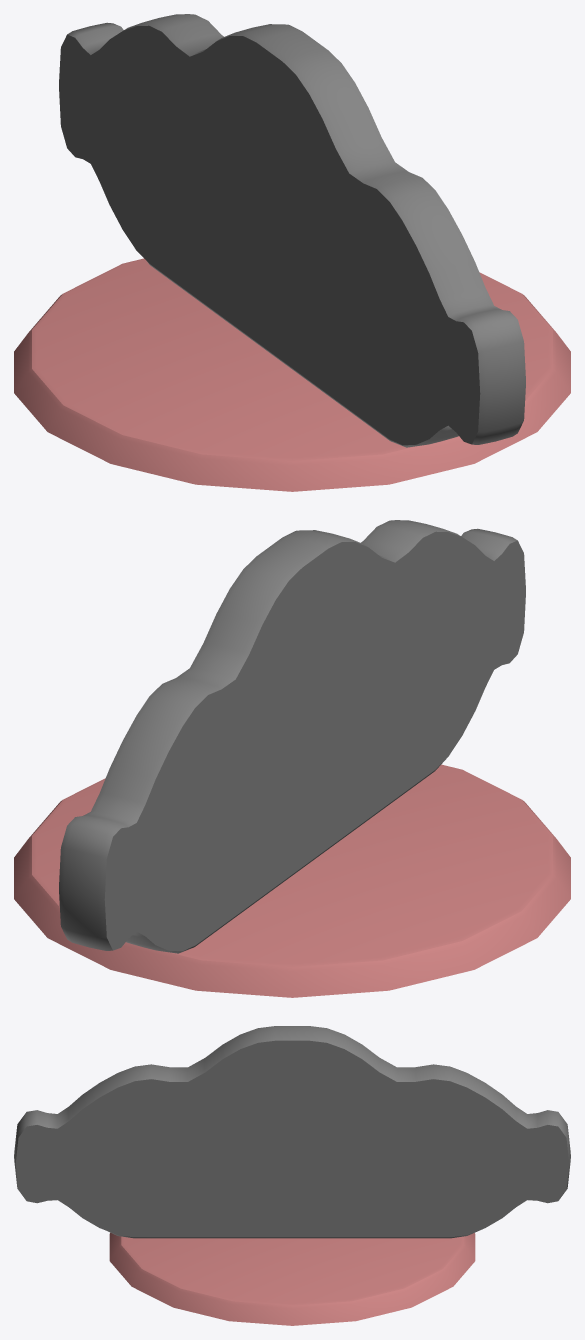
The model's file is bush.fbx.
The picture shows the model from 3 angles, top to bottom: view 1: azimuth 30°, elevation 25°; view 2: azimuth 150°, elevation 25°; view 3: azimuth 270°, elevation 25°; orthographic projection. The views are drawn at different scales.
Parts seen in each view (by area): view 1: bush, base001; view 2: bush, base001; view 3: bush, base001.
Part boxes in pixels (x1,y1,x2,y2): bush: [59, 14, 525, 447]; base001: [14, 258, 570, 491]; bush: [59, 520, 525, 953]; base001: [14, 764, 570, 997]; bush: [14, 1026, 570, 1238]; base001: [109, 1232, 475, 1325].
Bounding box in the file's own units: 107 × 68.3 × 160.
